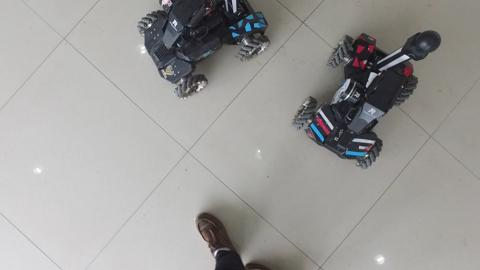chariot: (290, 27, 445, 182), (133, 1, 276, 108)
